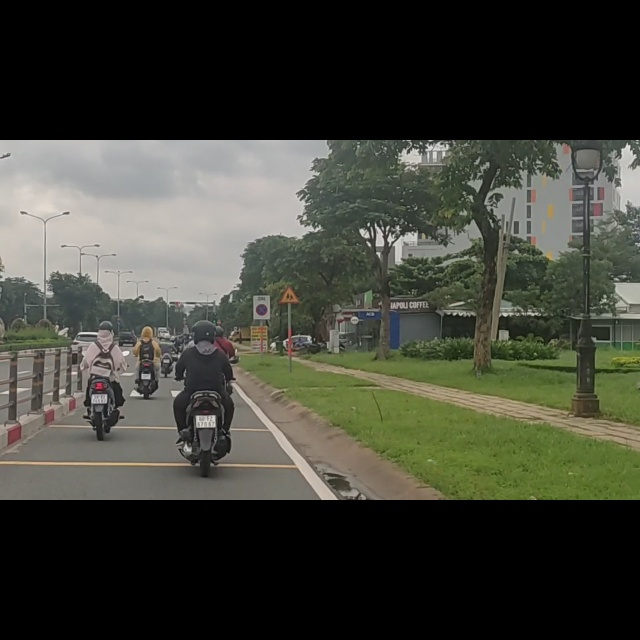bien_nguy_hiem: (279, 260, 300, 292), (256, 290, 268, 312)
